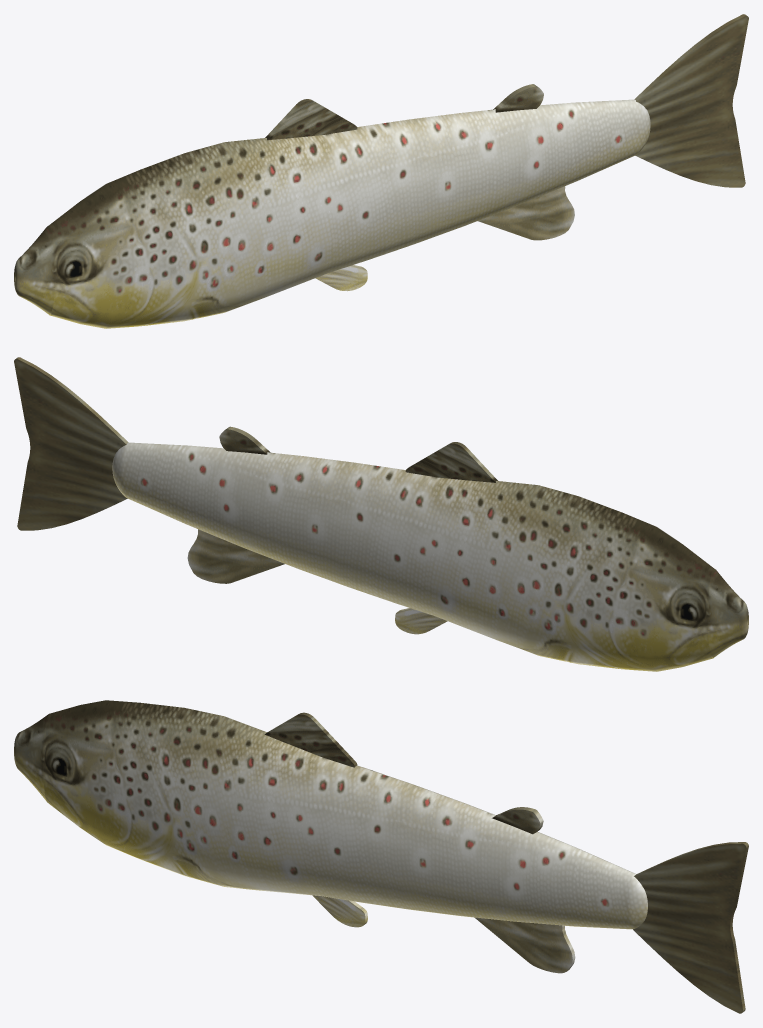
The model's file is brown trout.fbx.
3 renders of one model, top to bottom at view 1: azimuth 30°, elevation 25°; view 2: azimuth 150°, elevation 25°; view 3: azimuth 330°, elevation 25°, orthographic.
Parts seen in each view (by area): view 1: Line001, Line002, Line009, Line005, Line010, Line003; view 2: Line001, Line002, Line009, Line005, Line010, Line003; view 3: Line001, Line002, Line009, Line005, Line010, Line003.
Boxes of the visible parts, left/top/right/bottom form: Line001: left=14, top=99, right=650, bottom=328; Line002: left=634, top=14, right=748, bottom=187; Line009: left=478, top=186, right=574, bottom=240; Line005: left=265, top=99, right=357, bottom=140; Line010: left=315, top=265, right=367, bottom=291; Line003: left=493, top=84, right=543, bottom=112; Line001: left=112, top=442, right=748, bottom=671; Line002: left=14, top=357, right=128, bottom=530; Line009: left=187, top=529, right=284, bottom=583; Line005: left=405, top=442, right=497, bottom=482; Line010: left=395, top=608, right=447, bottom=634; Line003: left=219, top=426, right=270, bottom=454; Line001: left=14, top=700, right=647, bottom=929; Line002: left=633, top=842, right=748, bottom=1013; Line009: left=474, top=917, right=575, bottom=973; Line005: left=264, top=712, right=357, bottom=767; Line010: left=312, top=895, right=367, bottom=927; Line003: left=492, top=807, right=543, bottom=834.
Bounding box in the file's own units: 1023 × 267 × 74.06.
5 materials, 5 textured.
